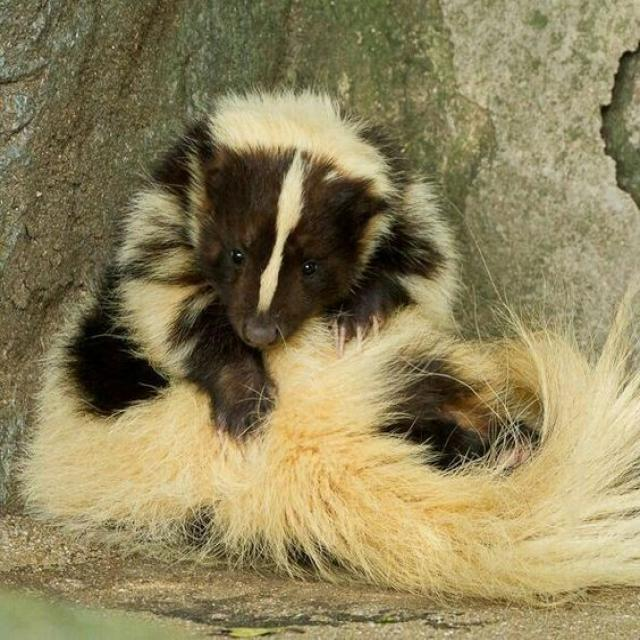Skunk: (0, 68, 640, 568)
